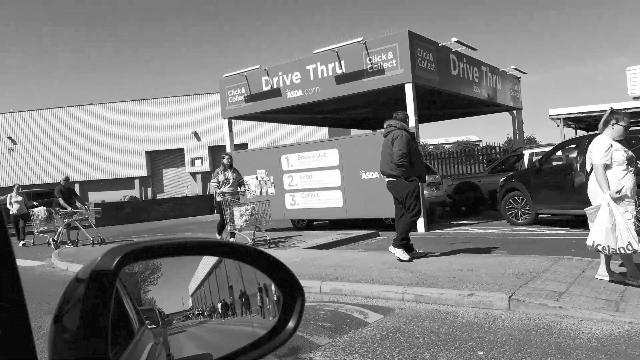berdiri: (590, 106, 640, 292)
